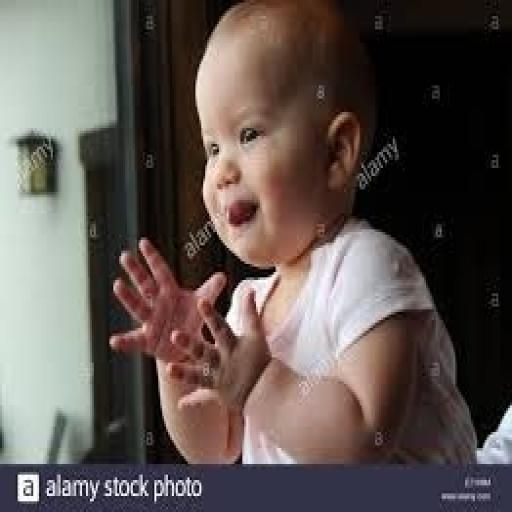clapping: (107, 0, 479, 467)
